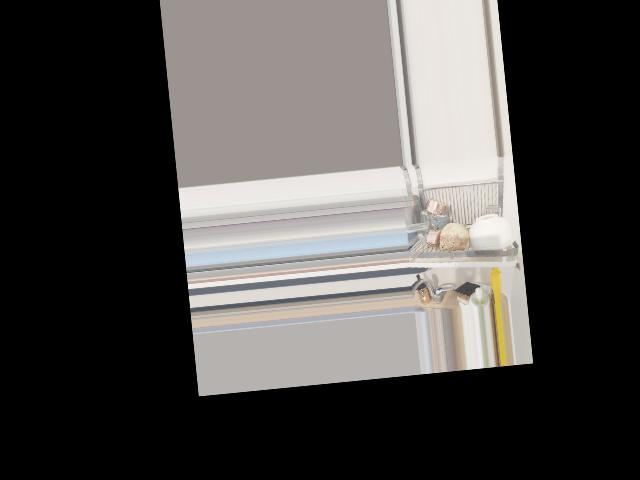onion: (439, 219, 470, 255)
